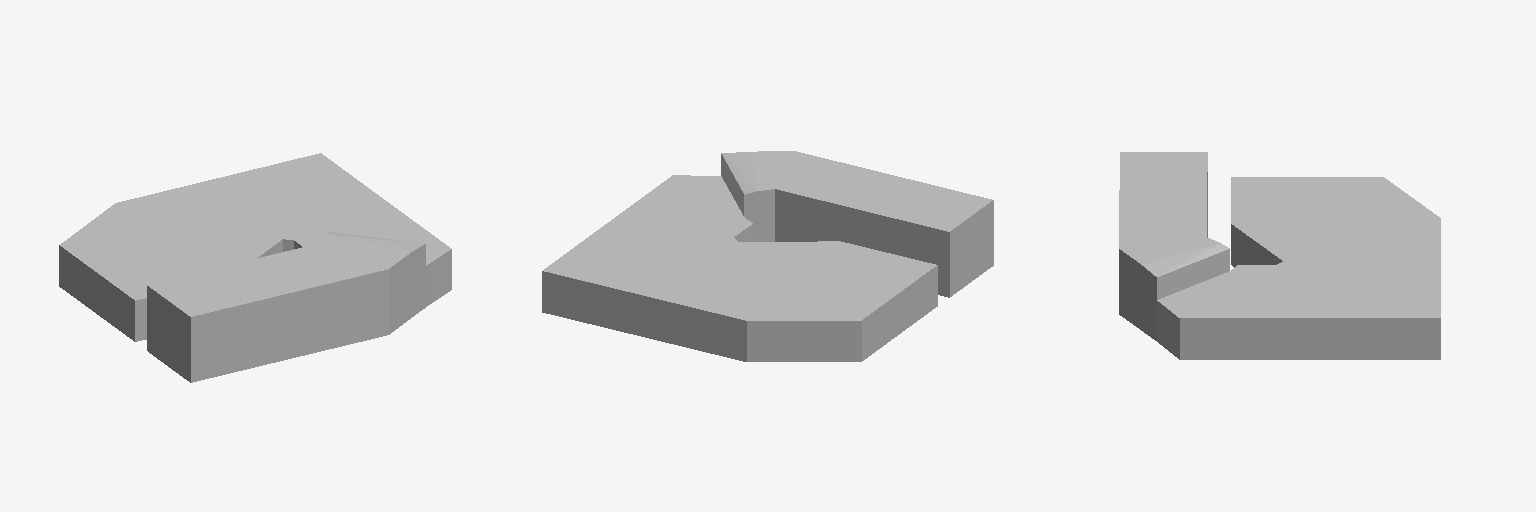
File: Level1_Facebook_ColliderMesh.obj
3 renders of one model, left to right at view 1: azimuth 30°, elevation 25°; view 2: azimuth 150°, elevation 25°; view 3: azimuth 270°, elevation 25°, orthographic.
Visible parts, largest first — view 1: CollisionMesh; view 2: CollisionMesh; view 3: CollisionMesh.
Part boxes in pixels (x1,y1,x2,y2): CollisionMesh: (59,153,451,382); CollisionMesh: (542,151,993,361); CollisionMesh: (1119,152,1440,359).
Bounding box in the file's own units: 13.55 × 2.93 × 12.99.